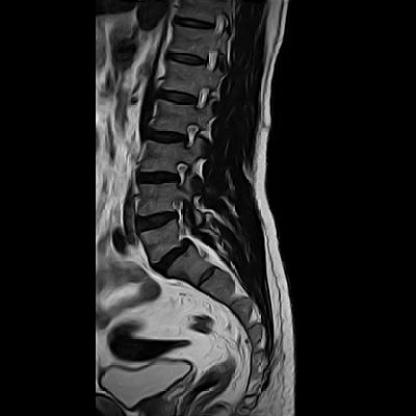Disc Bulgerotation: (149, 245, 200, 269), (133, 208, 181, 231), (135, 168, 180, 188)
